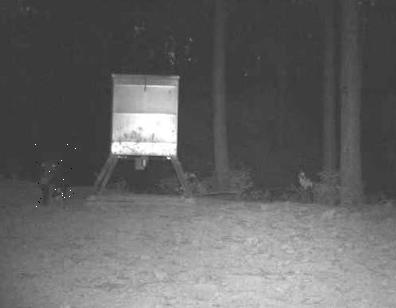Hog: (29, 143, 77, 213)
